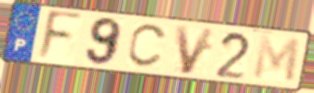2: (213, 30, 255, 80)
9: (85, 16, 125, 68)
C: (125, 23, 170, 70)
F: (35, 9, 85, 63)
M: (251, 34, 302, 85)
V: (173, 24, 218, 77)
